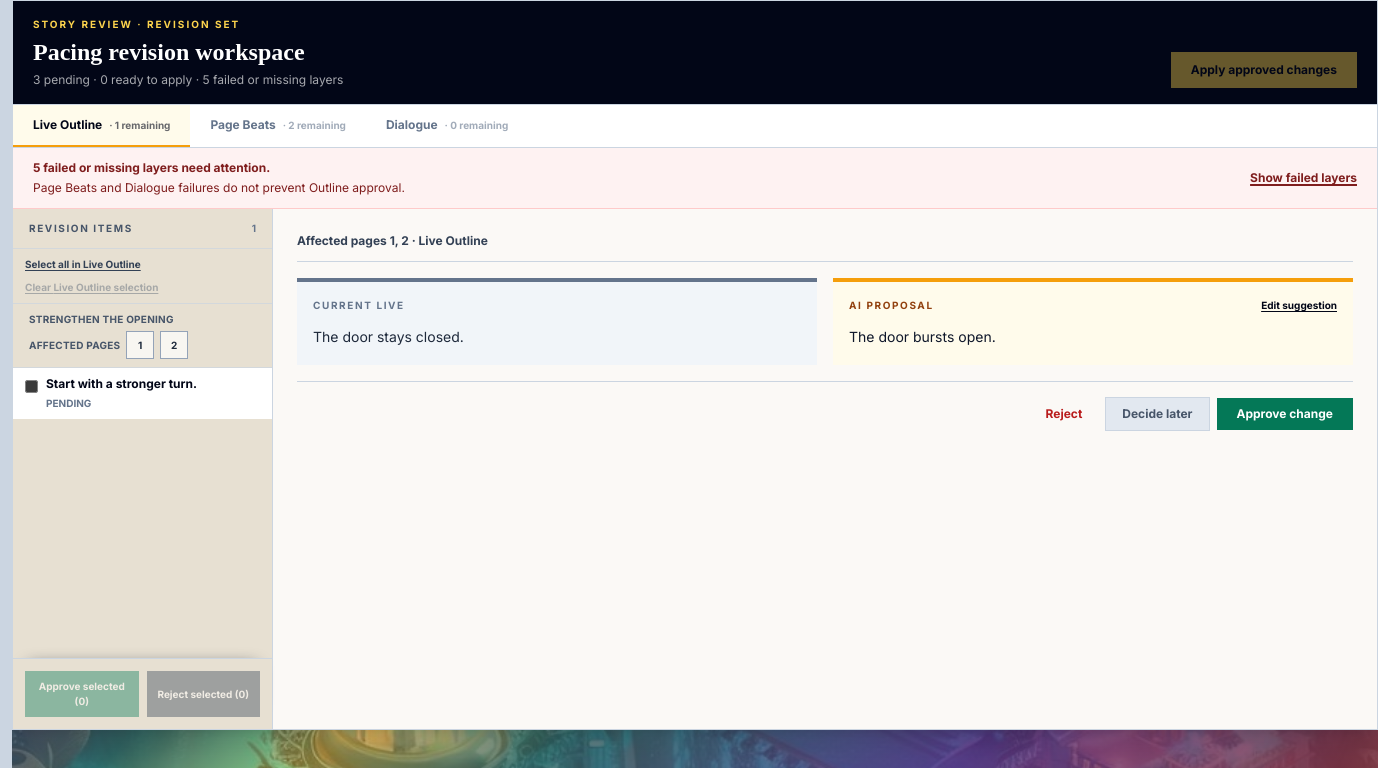
Test: WriterPacingRevisionWorkspace › exits a missing virtual preview when a same-layer sidebar change is selected
Click the tab "Page Beats · 2 remaining" at {"x": 278, "y": 126}, box x1=190 y1=105 x2=366 y2=147
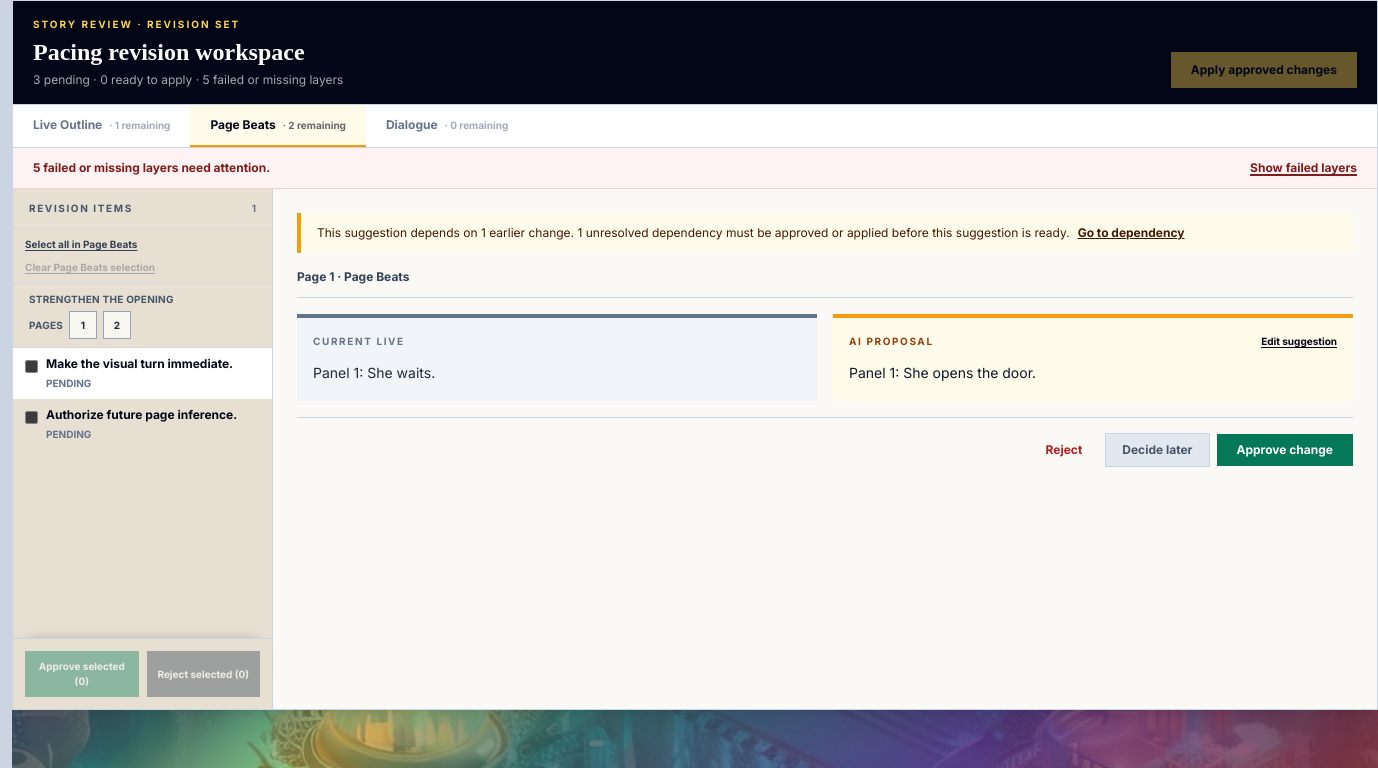
Click the button named "Open virtual page 2 Page Beats preview" at {"x": 117, "y": 325}, box x1=103 y1=311 x2=131 y2=339
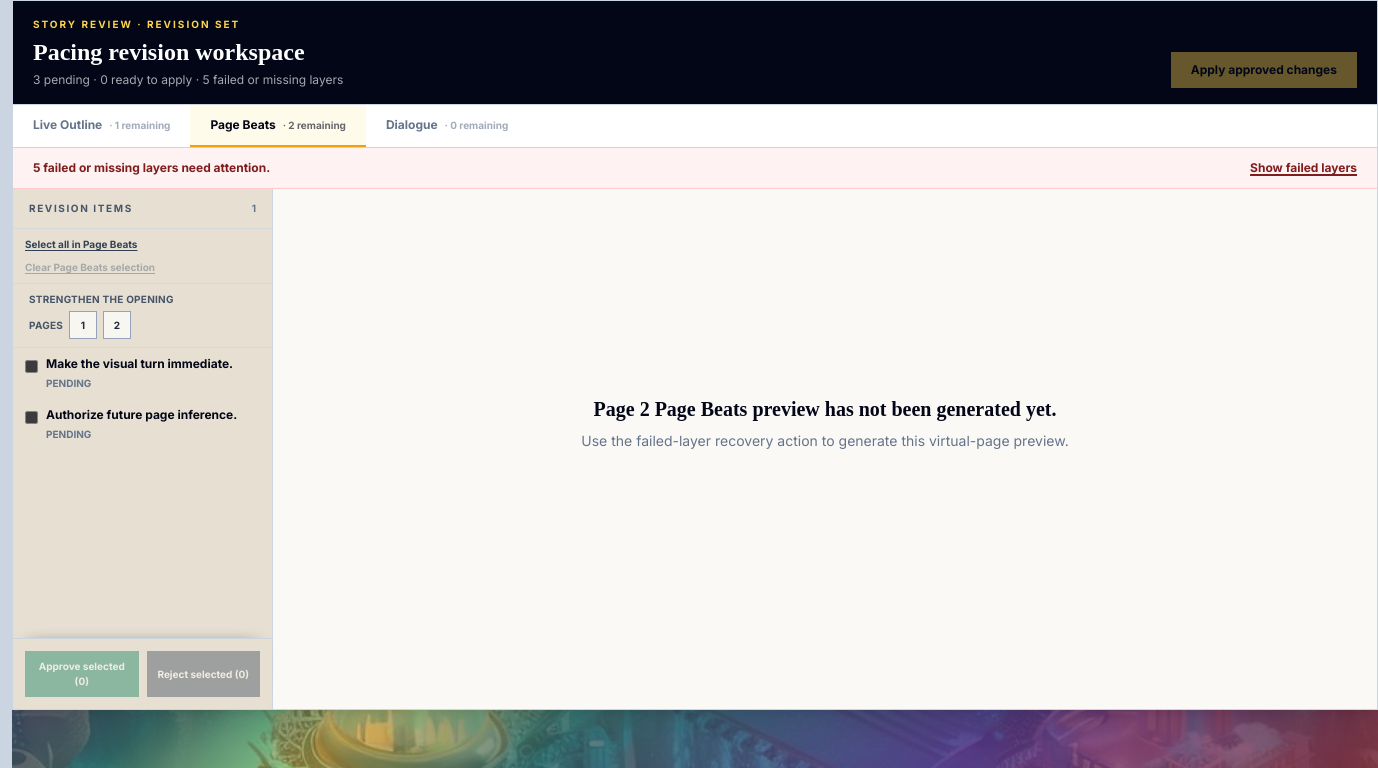
Result: the text "Page 2 Page Beats preview has not been generated yet." is shown at x1=581 y1=395 x2=1069 y2=423
Click the button "Make the visual turn immediate. Pending" at {"x": 153, "y": 374}, box x1=46 y1=356 x2=260 y2=391
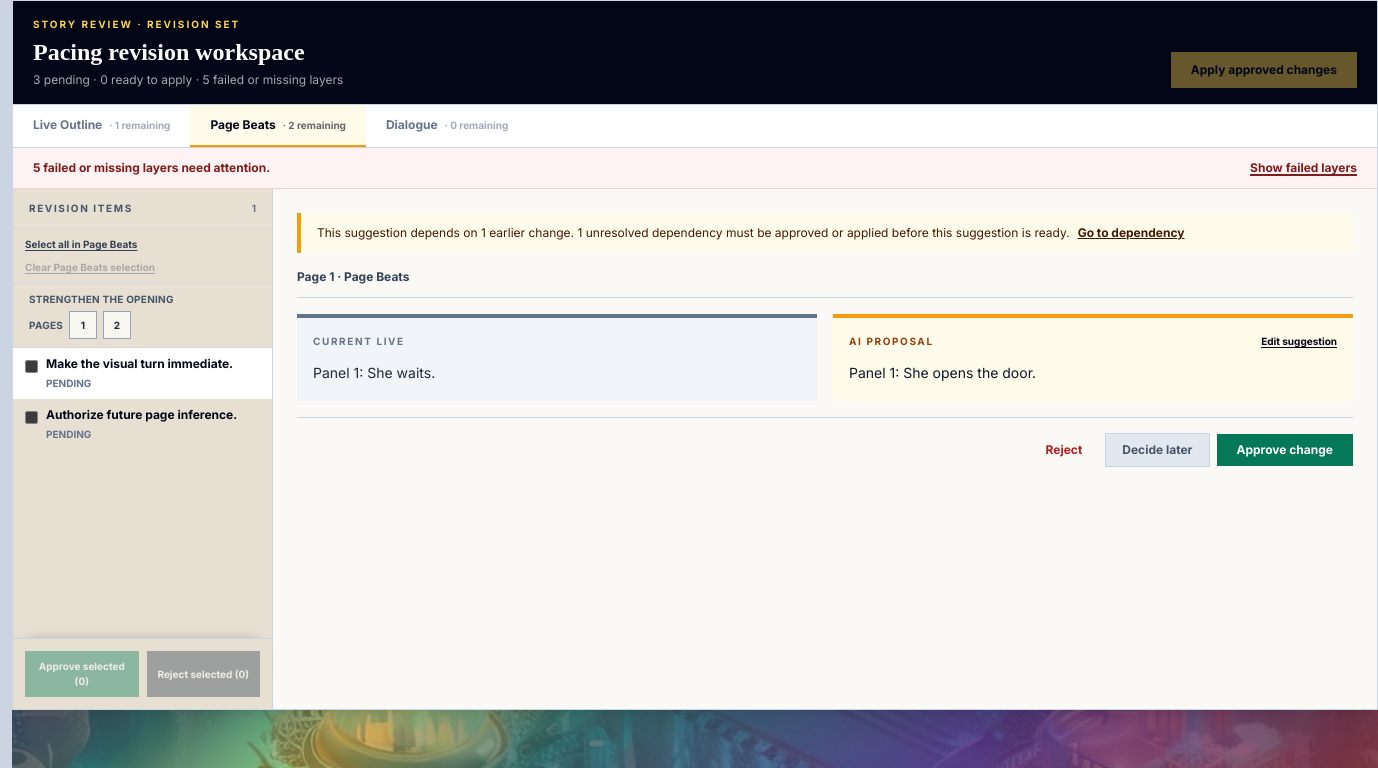
Result: the text "Page 2 Page Beats preview has not been generated yet." is gone
Result: the text "Page 1 · Page Beats" is shown at x1=297 y1=269 x2=409 y2=285
Result: the text "Panel 1: She opens the door." is shown at x1=849 y1=364 x2=1036 y2=381
